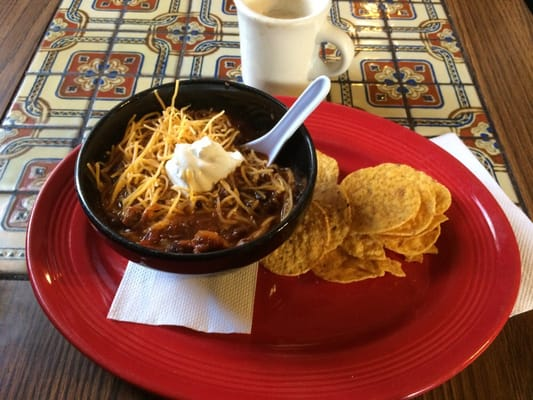pizza: (231, 0, 355, 97)
salad: (239, 75, 333, 165)
sushi: (73, 78, 318, 276)
